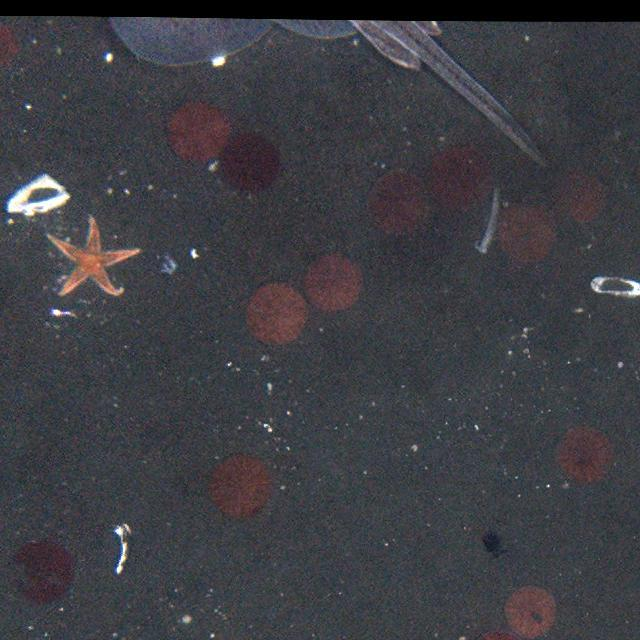skate: (104, 14, 552, 167)
